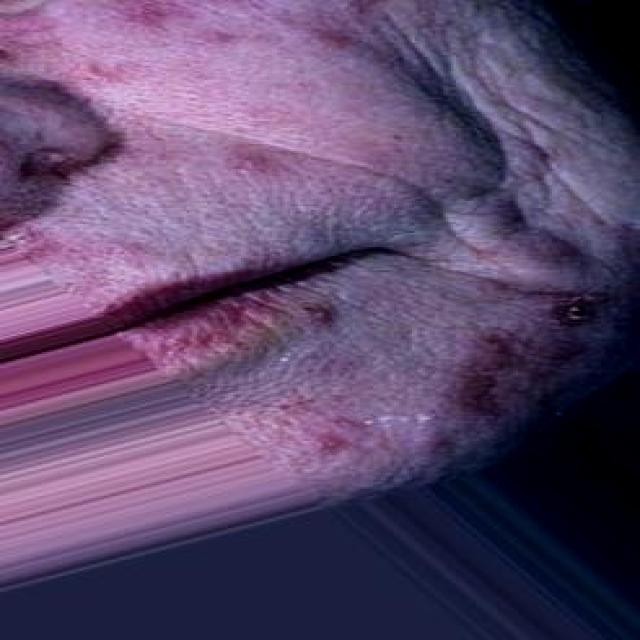Rosacea: (452, 332, 577, 408), (314, 426, 354, 458), (308, 301, 337, 325)
